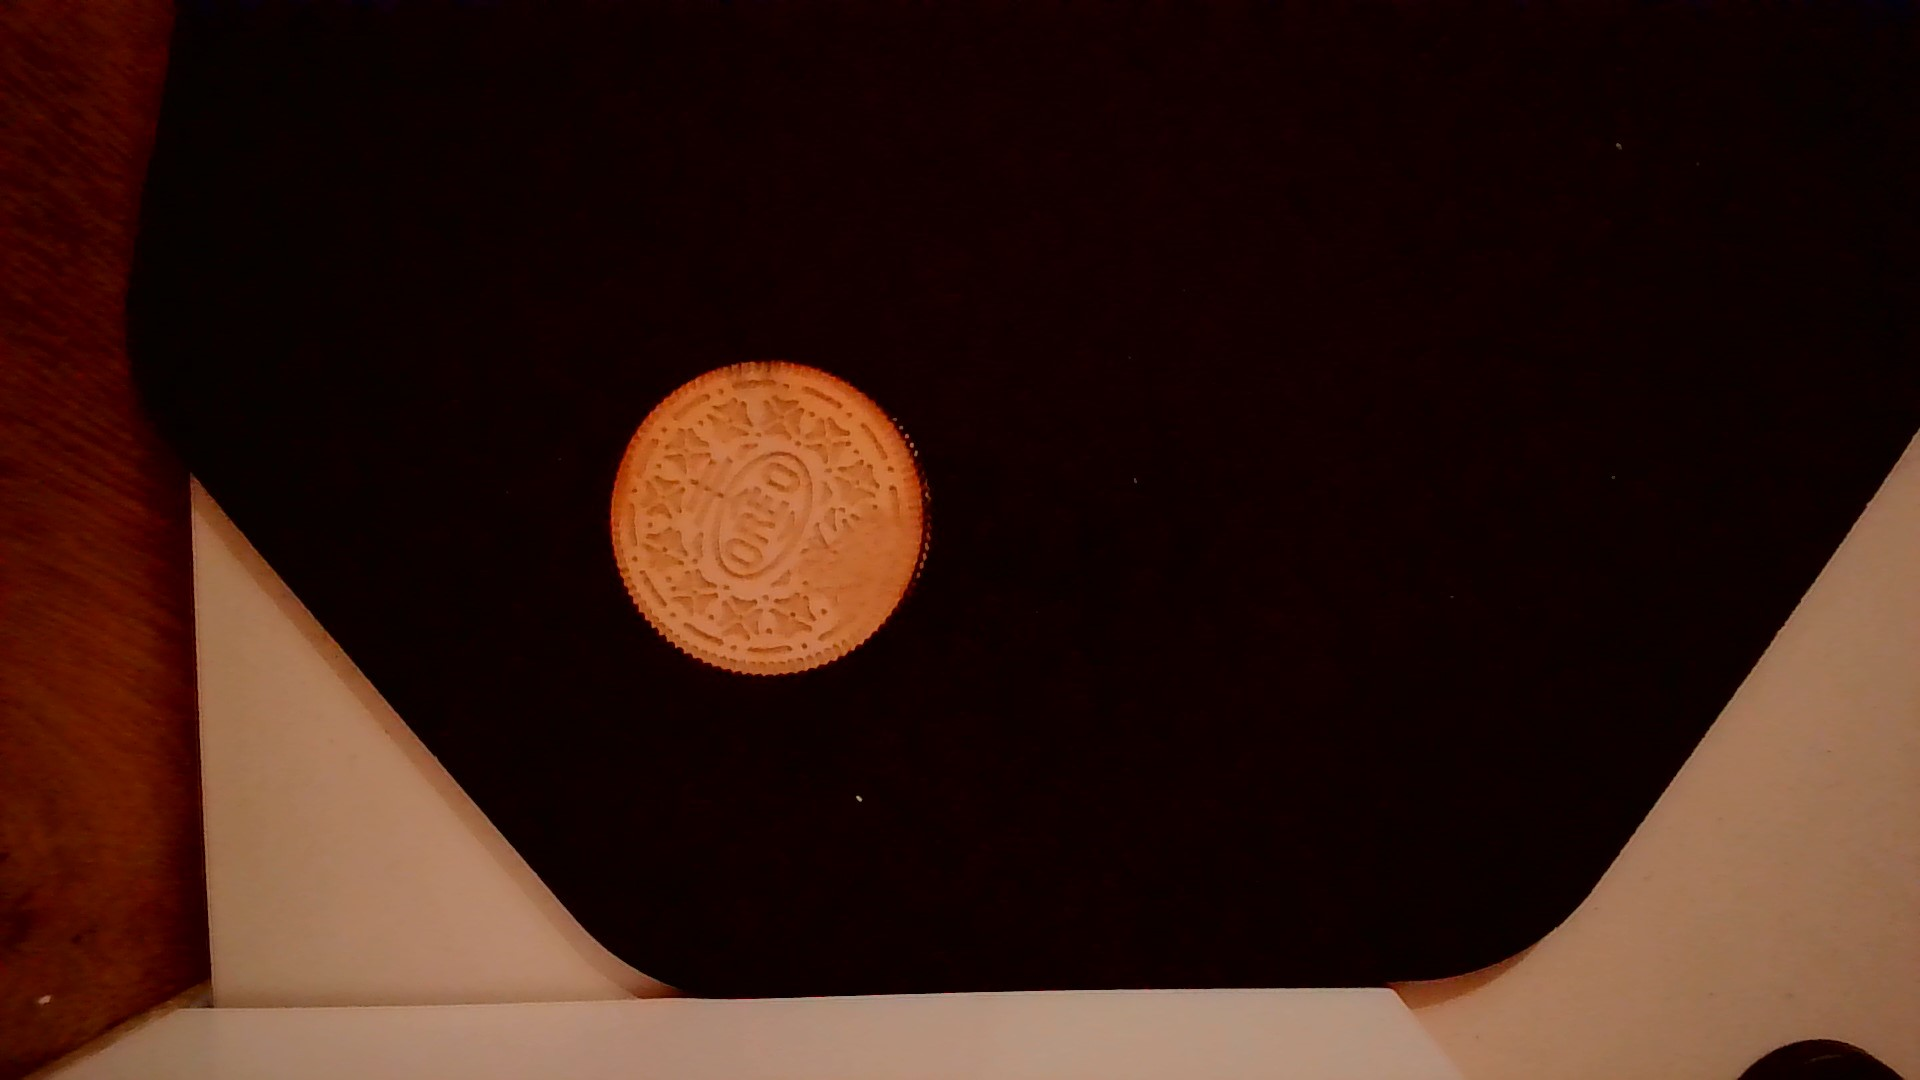Effacé: (804, 502, 915, 636)
Oréo: (596, 345, 940, 683)
